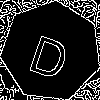D: (26, 26, 75, 81)
